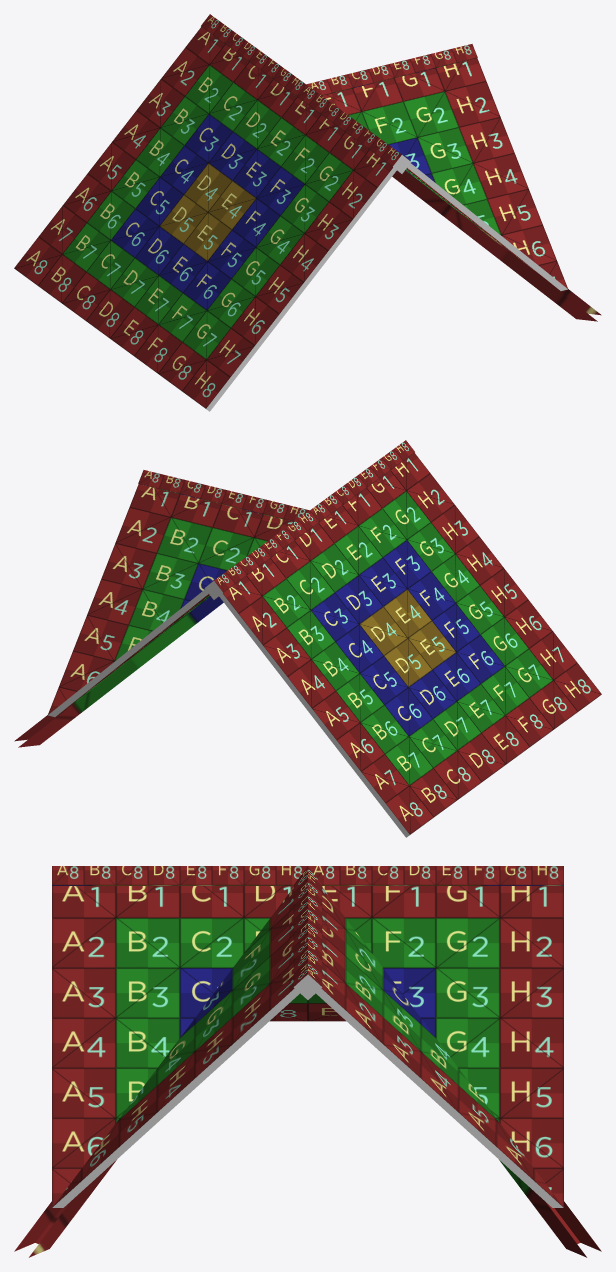
The model's file is CK Roof T.dae.
The picture shows the model from 3 angles, top to bottom: view 1: azimuth 30°, elevation 25°; view 2: azimuth 150°, elevation 25°; view 3: azimuth 270°, elevation 25°; orthographic projection. The views are drawn at different scales.
Parts seen in each view (by area): view 1: Outer; view 2: Outer; view 3: Outer.
Boxes of the visible parts, x1,y1,x2,y2 form: Outer: (14,14,601,411); Outer: (14,440,601,837); Outer: (14,866,601,1257).
Size of the model in its own units: 5.82 by 5.74 by 3.02.
Materials: 8 (4 with a texture image).
